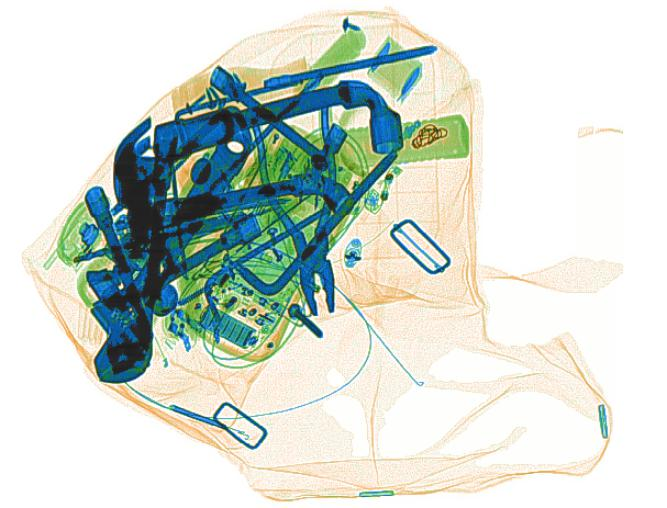battery: (198, 303, 257, 350)
